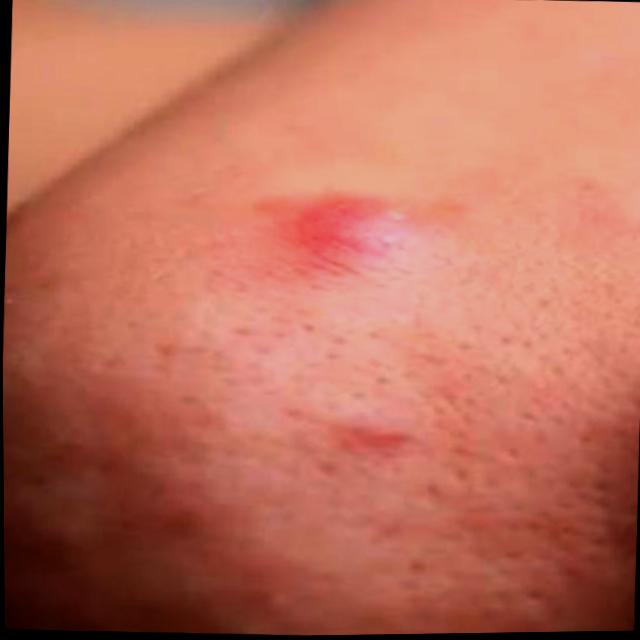nodule: (272, 190, 435, 311)
